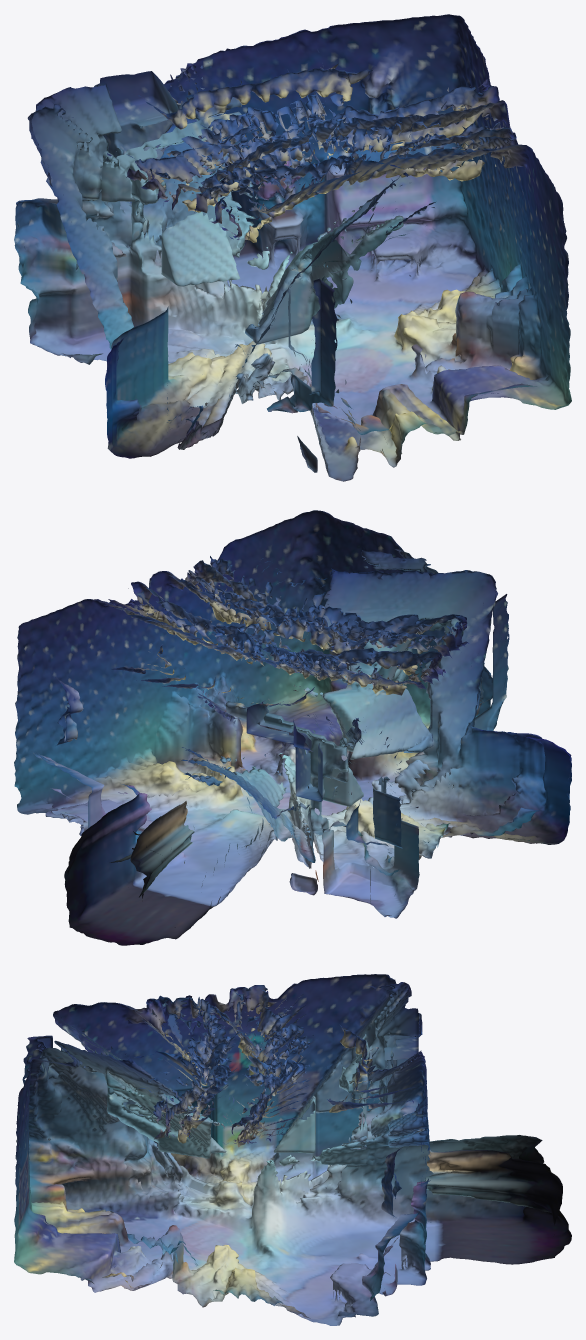
The model's file is ac-observatory_collider.glb.
3 views of the same model, one above another, from view 1: azimuth 30°, elevation 25°; view 2: azimuth 150°, elevation 25°; view 3: azimuth 270°, elevation 25° (orthographic). The views are drawn at different scales.
Parts seen in each view (by area): view 1: world; view 2: world; view 3: world.
Boxes of the visible parts, x1,y1,x2,y2 form: world: [14, 14, 571, 481]; world: [14, 510, 571, 945]; world: [14, 974, 571, 1325].
Size of the model in its own units: 10.31 by 4.77 by 12.36.
